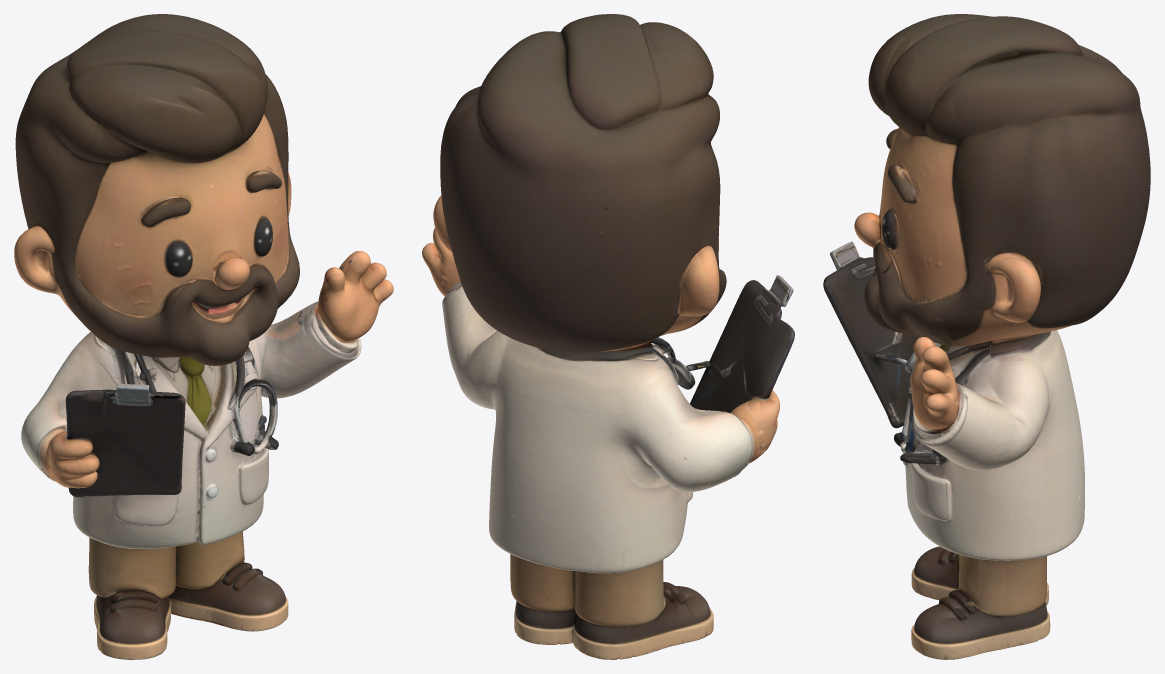
Rendered from doctor.glb.
3 renders of one model, left to right at view 1: azimuth 30°, elevation 25°; view 2: azimuth 150°, elevation 25°; view 3: azimuth 270°, elevation 25°, orthographic. The views are drawn at different scales.
Bounding box in the file's own units: 1.18 × 1.9 × 0.971.
1 material, 1 textured.
